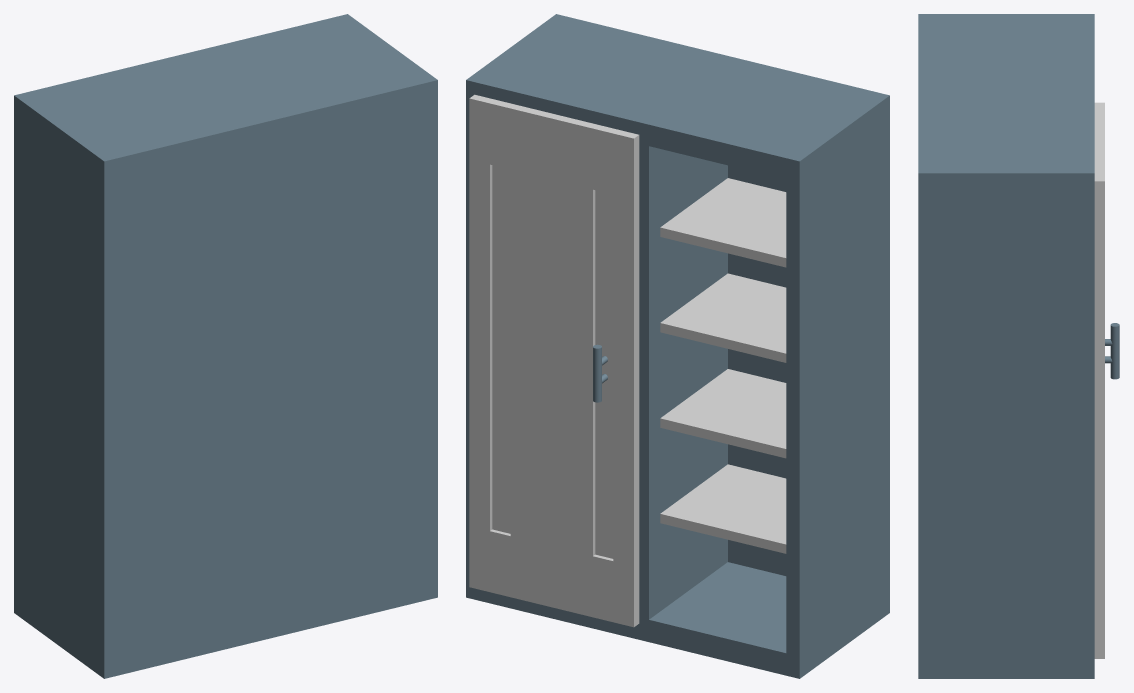
Rendered from Armoire3_4.fbx.
3 renders of one model, left to right at view 1: azimuth 30°, elevation 25°; view 2: azimuth 150°, elevation 25°; view 3: azimuth 270°, elevation 25°, orthographic. The views are drawn at different scales.
Parts seen in each view (by area): view 1: pCube2359; view 2: pCube2359, pCube2372, pCube2364, pCube2363, pCube2366, pCube2365; view 3: pCube2359, pCube2372, pCylinder1530.
Boxes of the visible parts, x1,y1,x2,y2 form: pCube2359: [14, 14, 437, 678]; pCube2359: [466, 14, 889, 678]; pCube2372: [469, 94, 639, 627]; pCube2364: [660, 273, 786, 362]; pCube2363: [660, 178, 786, 267]; pCube2366: [660, 464, 786, 553]; pCube2365: [660, 369, 786, 458]; pCube2359: [918, 14, 1094, 678]; pCube2372: [1094, 102, 1104, 658]; pCylinder1530: [1110, 323, 1119, 379].
Bounding box in the file's own units: 81.83 × 121 × 43.7.
